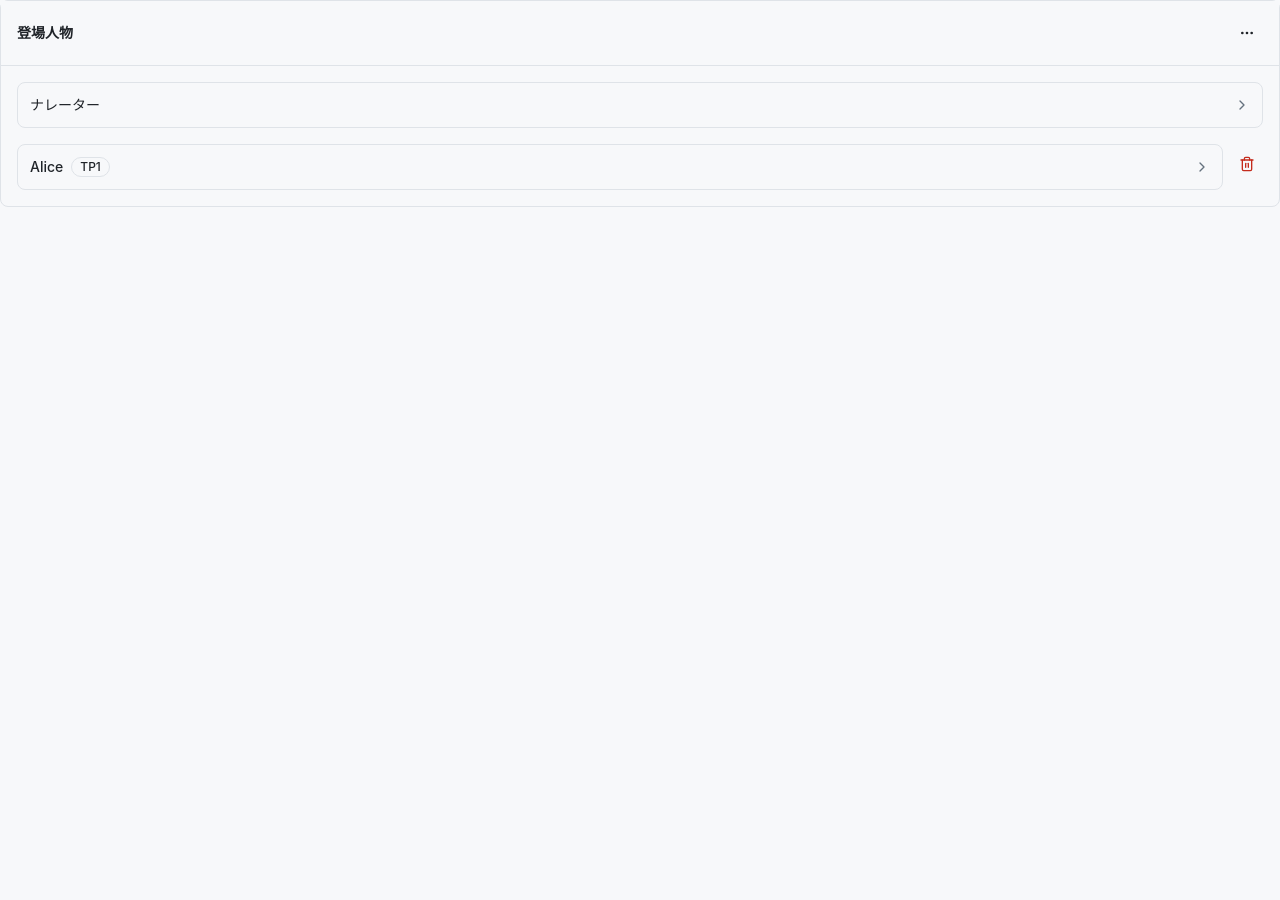
Test case: AnalysisContent 編集ダイアログの声コントロール › 特徴は常時表示（Textarea）で、他フィールドは閉じている
Click the button with aria-label "Aliceを開く" at (47, 166), box left=18, top=145, right=1222, bottom=189
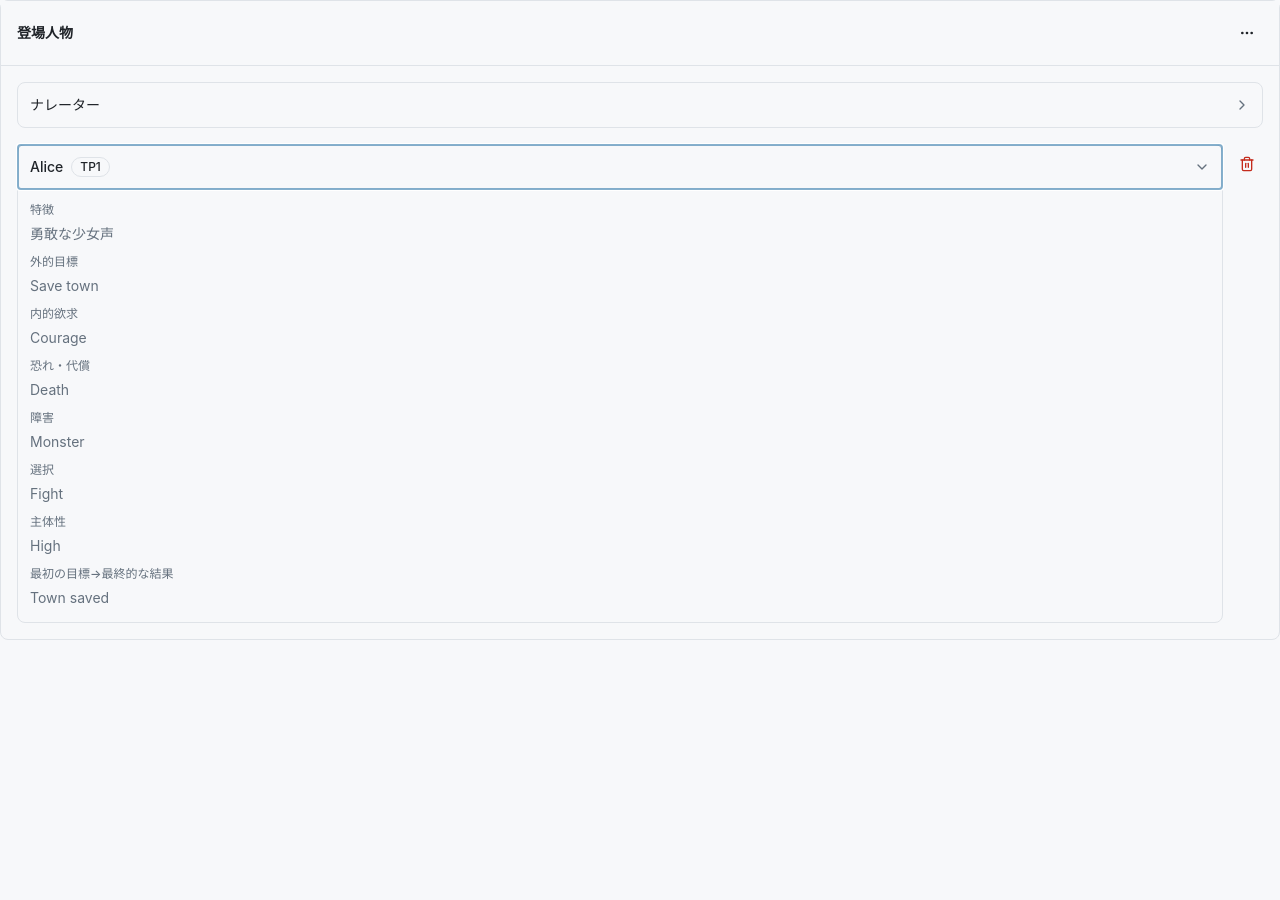
Click the button with aria-label "Aliceを編集" at (620, 406), box left=18, top=189, right=1222, bottom=622
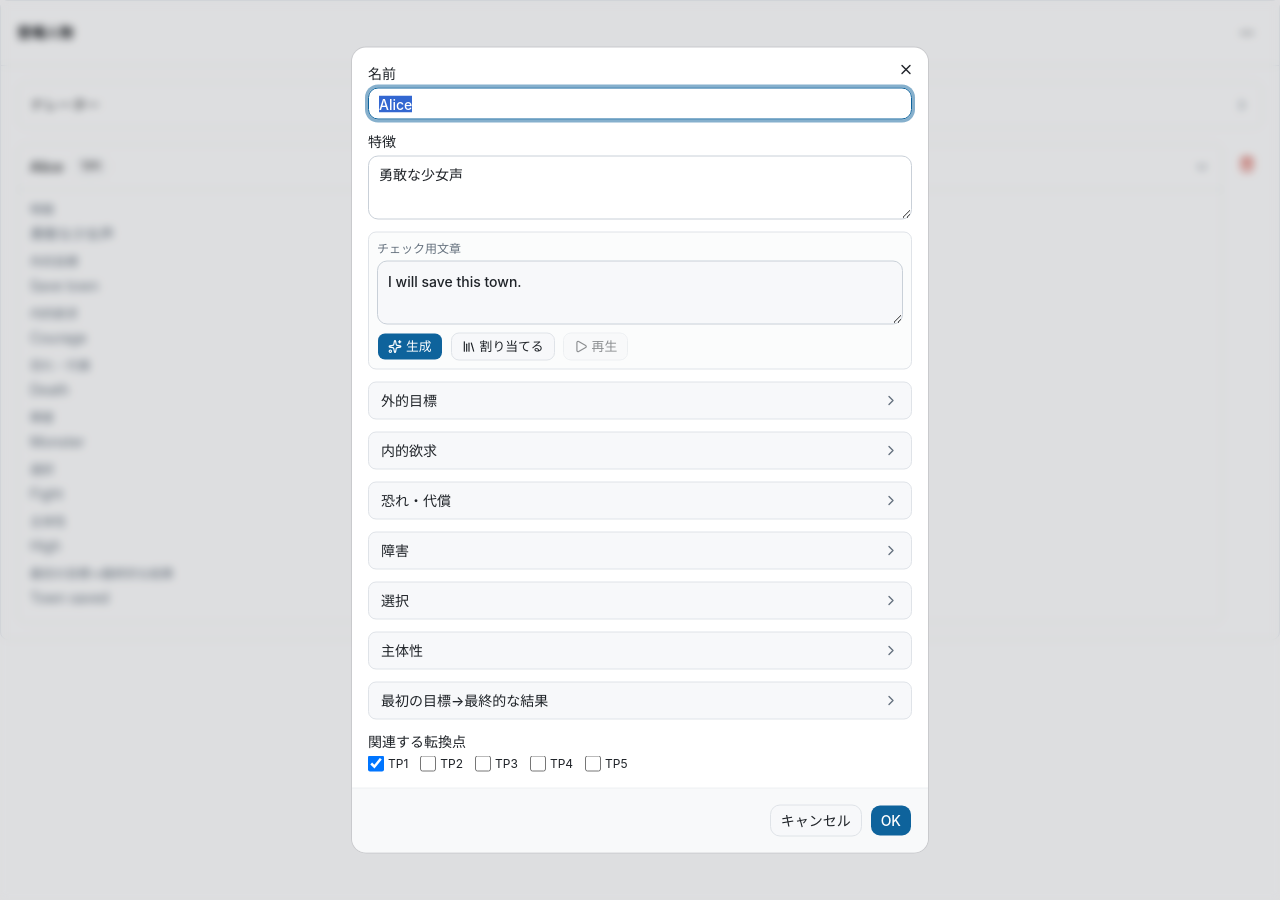
Expected: the text box named "Alice 特徴" is shown, left=368, top=156, right=912, bottom=220
